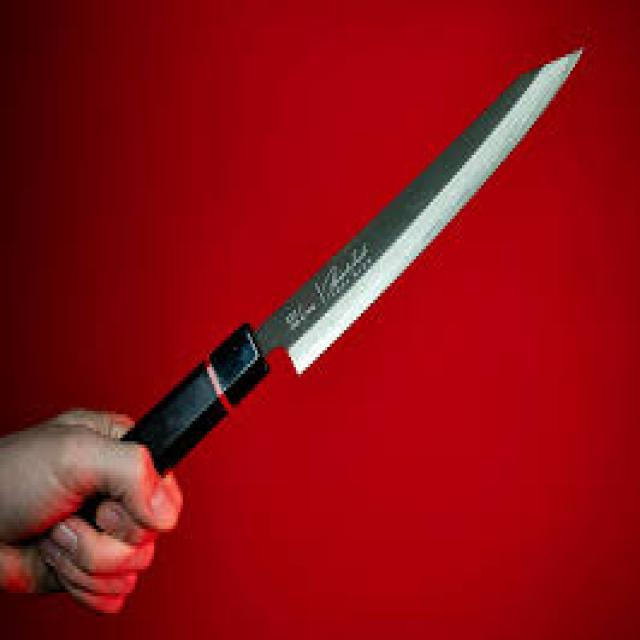Knife: (128, 51, 580, 472)
